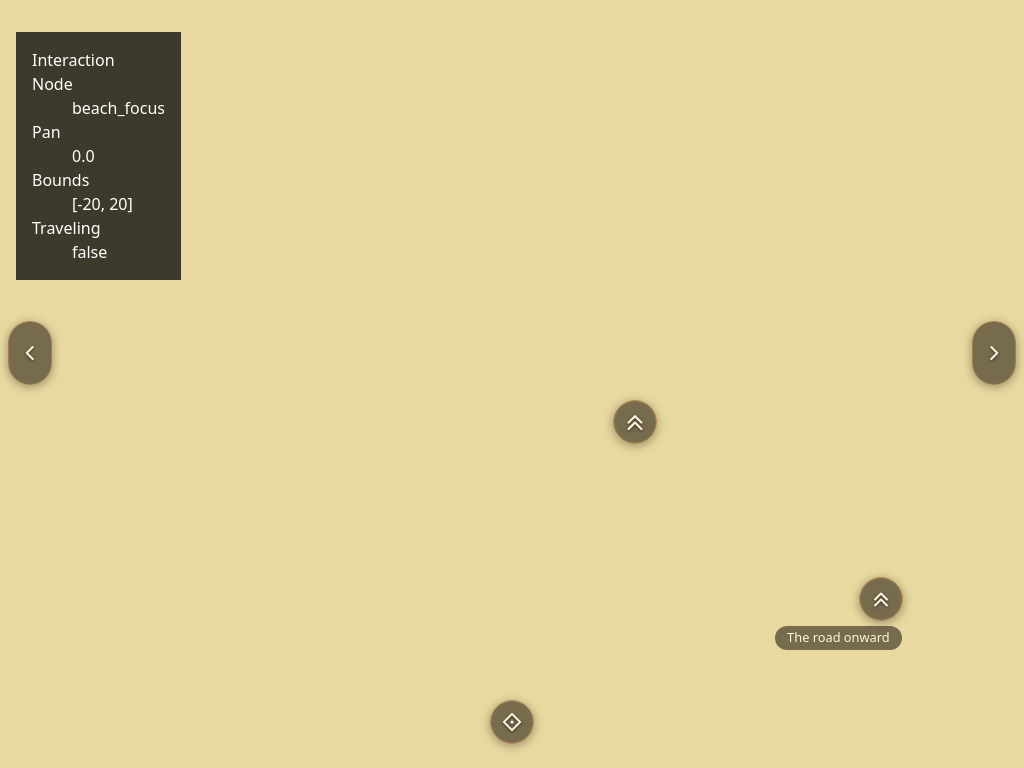
Scenario: SceneJourney — in-scene travel › keeps keyboard look bounded and resets it after travel
Type keys "{ArrowRight>10/}"
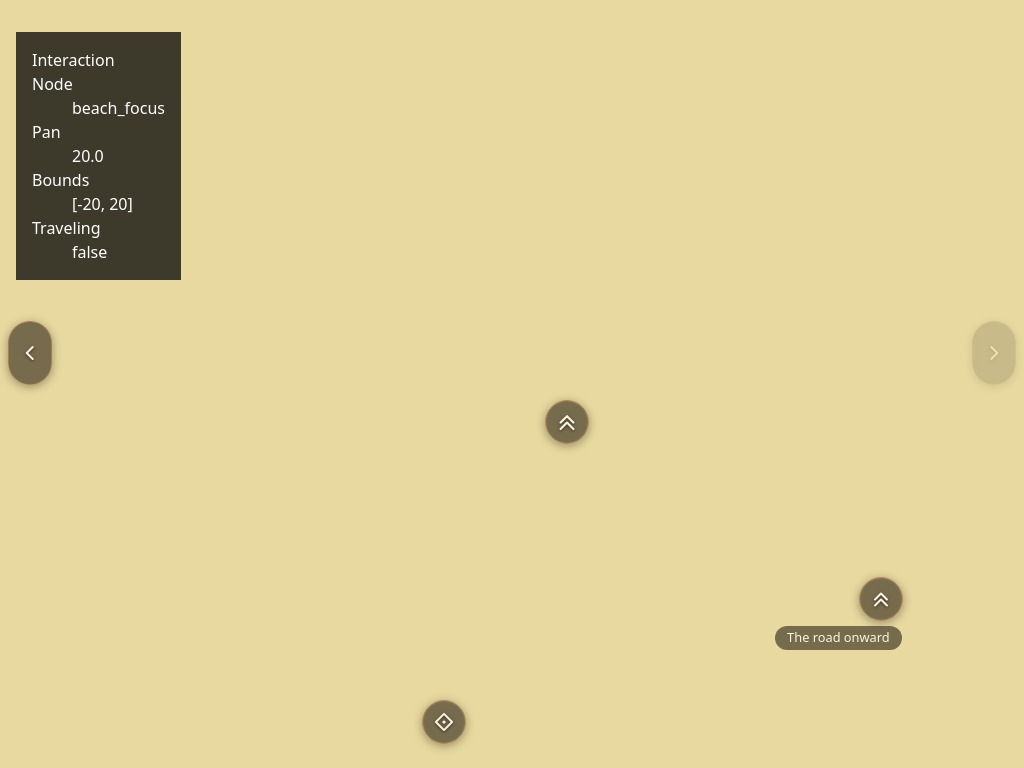
Now the text with test id "debug-pan" reads "20.0", box [72,145,104,167]
Click the button with test id "walk-forward": x=567, y=422 [545,400,589,444]
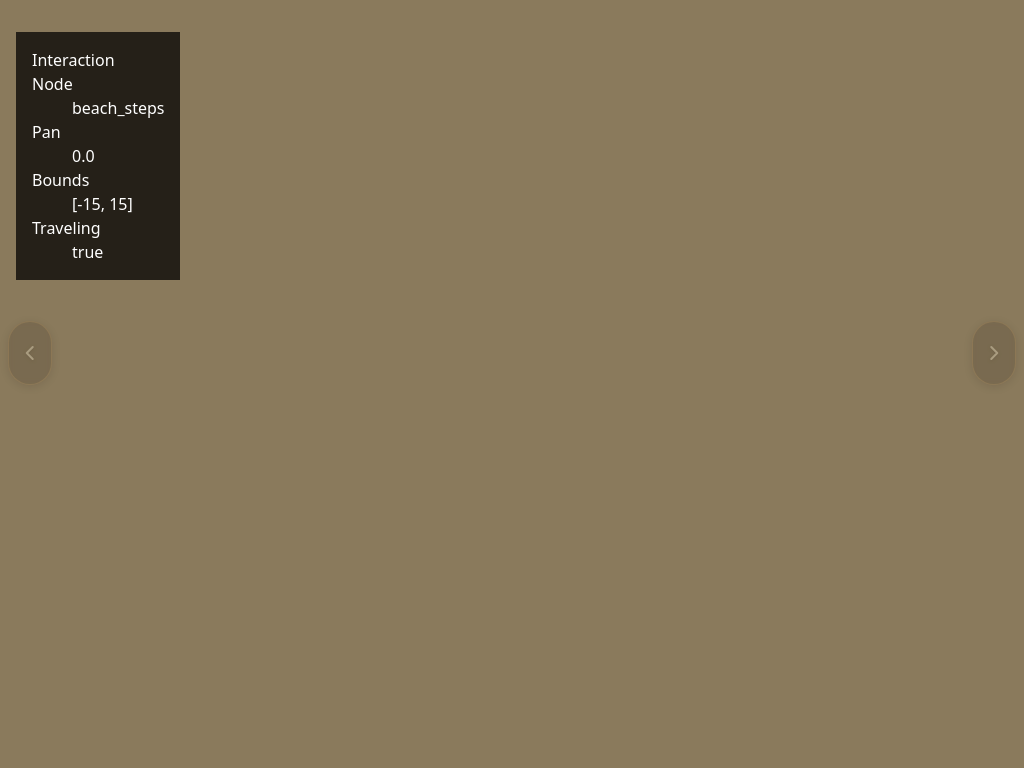
Now the element with test id "scene-stage-beach_steps" is shown
Now the text with test id "debug-pan" reads "0.0", box [72,145,95,167]
